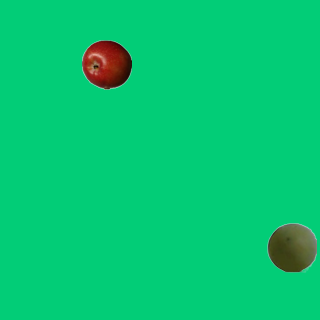Apple Braeburn: (81, 39, 131, 89)
Grape White 4: (266, 222, 316, 272)
